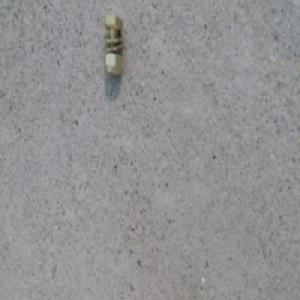BoltNutSet: (102, 15, 123, 79)
